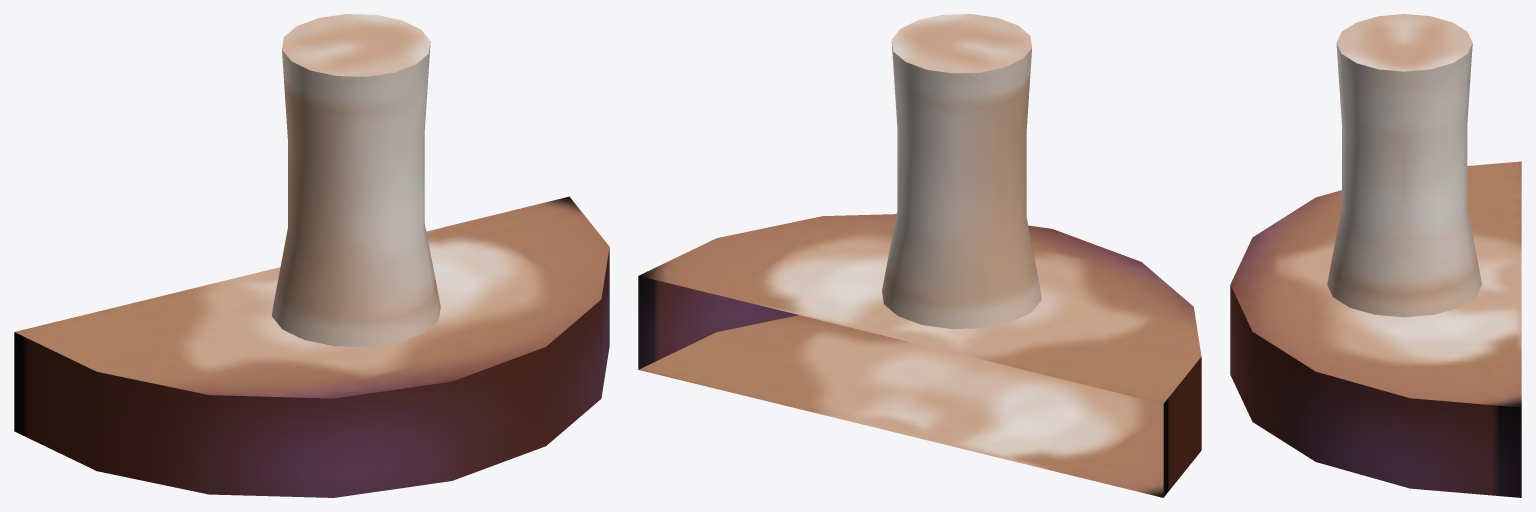
The model's file is mig_lz_1.FBX.
3 renders of one model, left to right at view 1: azimuth 30°, elevation 25°; view 2: azimuth 150°, elevation 25°; view 3: azimuth 270°, elevation 25°, orthographic. The views are drawn at different scales.
Parts seen in each view (by area): view 1: mig_lz_1; view 2: mig_lz_1; view 3: mig_lz_1.
Part boxes in pixels (x1=…): mig_lz_1: x1=14, y1=14, x2=609, y2=497; mig_lz_1: x1=638, y1=14, x2=1201, y2=497; mig_lz_1: x1=1230, y1=14, x2=1521, y2=497.
Bounding box in the file's own units: 87.98 × 55.34 × 43.99.
